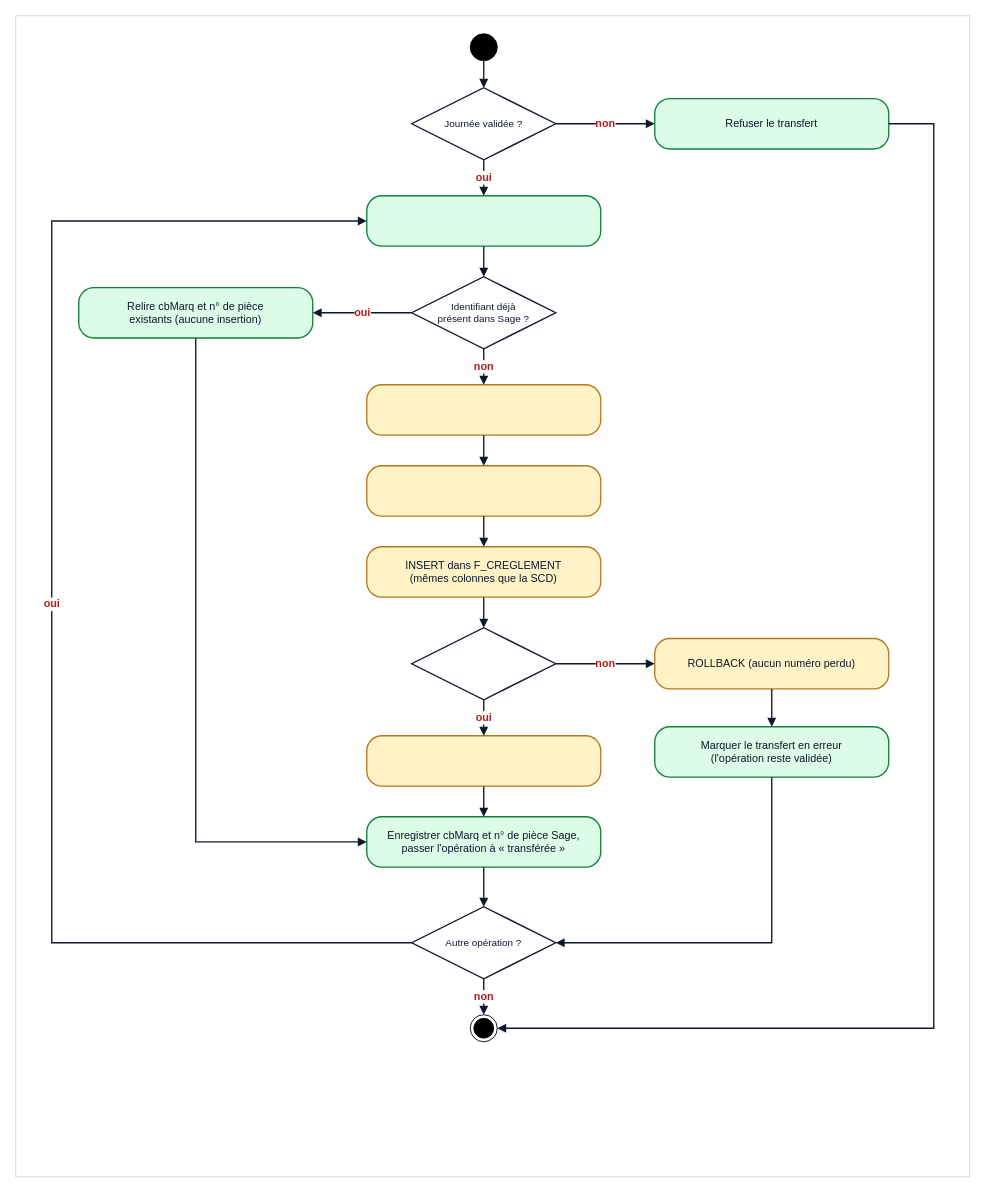
The diagram is 986 pixels wide and 1193 high, and some of its shapes have lost their labels. Each missing label, with the centre of its shape:
"COMMIT" belongs at point (483, 760).
"Lire puis incrémenter le compteur de pièce (WITH UPDLOCK, HOLDLOCK)" belongs at point (483, 490).
"Ouvrir une transaction SQL" belongs at point (483, 409).
"Prendre la prochaine opération validée" belongs at point (483, 220).
"Toutes les instructions ont réussi ?" belongs at point (483, 663).
